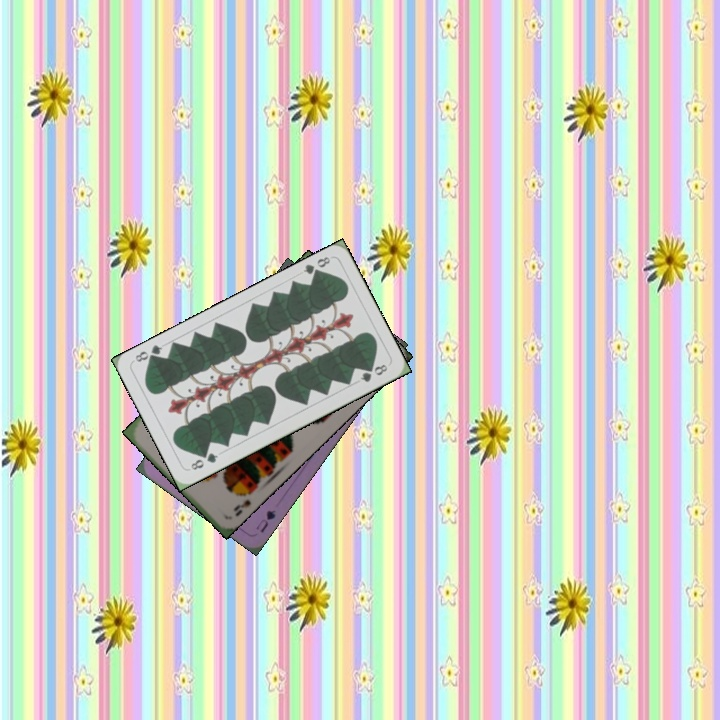G8: (299, 252, 333, 280), (187, 448, 221, 473)
GU: (252, 506, 278, 535)
S9: (230, 485, 256, 519)
